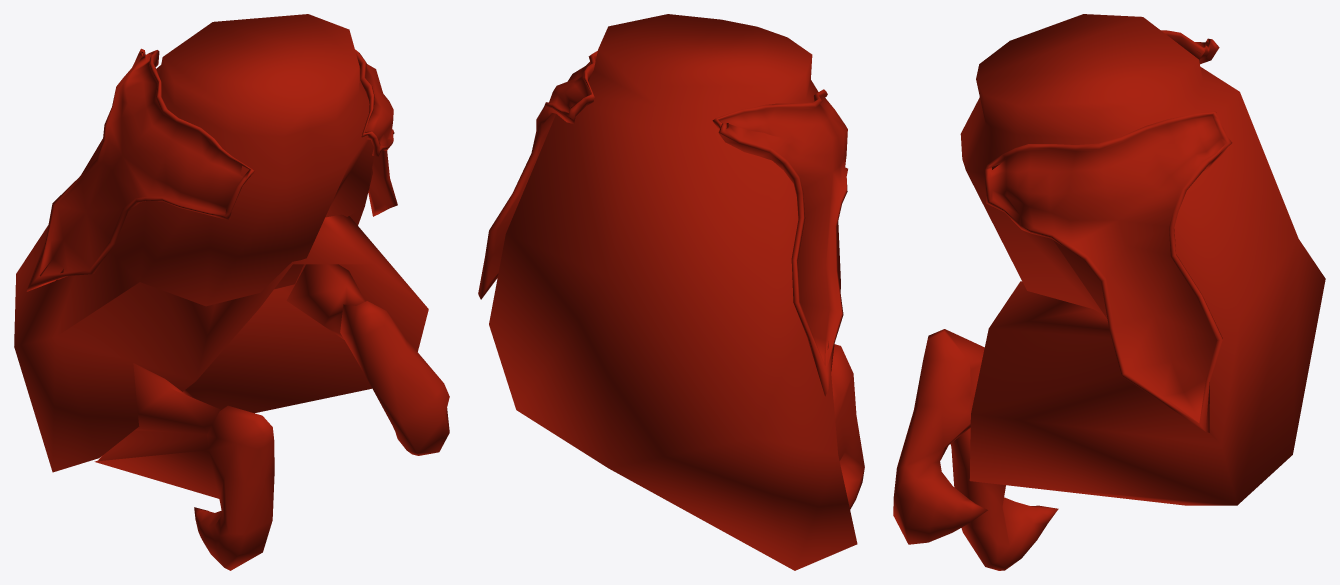
Rendered from bot_000047.obj.
3 views of the same model, side by side, from view 1: azimuth 30°, elevation 25°; view 2: azimuth 150°, elevation 25°; view 3: azimuth 270°, elevation 25° (orthographic). The views are drawn at different scales.
Visible parts, largest first — view 1: LowPoly_Warlock.004_Plane.004; view 2: LowPoly_Warlock.004_Plane.004; view 3: LowPoly_Warlock.004_Plane.004.
Part boxes in pixels (x1,y1,x2,y2): LowPoly_Warlock.004_Plane.004: [14, 14, 449, 570]; LowPoly_Warlock.004_Plane.004: [478, 14, 864, 570]; LowPoly_Warlock.004_Plane.004: [893, 14, 1325, 570].
Size of the model in its own units: 0.7105 by 0.9101 by 0.645.
